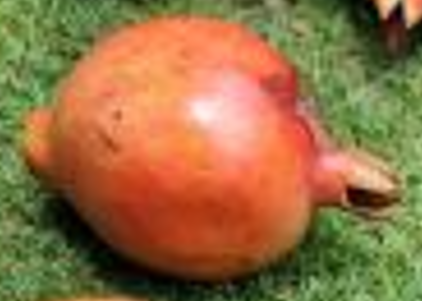pomegranate_B: (22, 14, 405, 284)
